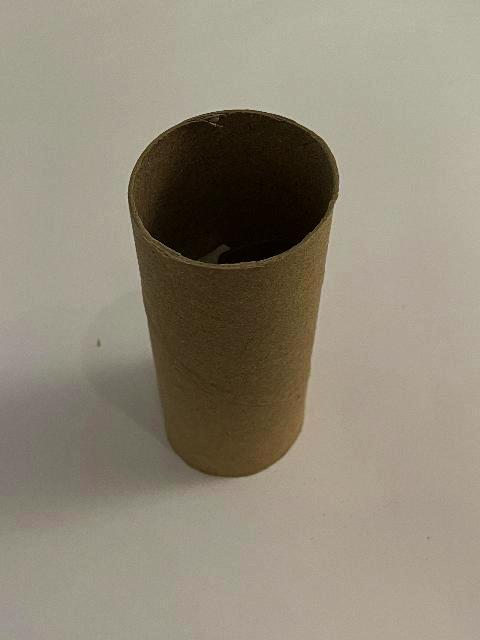tissueroll: (126, 107, 340, 481)
